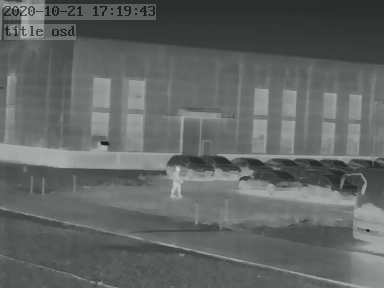person: (171, 163, 185, 197)
vehicle: (240, 169, 303, 191), (166, 152, 215, 179), (301, 175, 358, 198), (204, 153, 243, 178), (233, 154, 269, 172), (344, 156, 379, 172), (262, 155, 295, 170), (320, 156, 352, 171), (296, 155, 325, 169)
